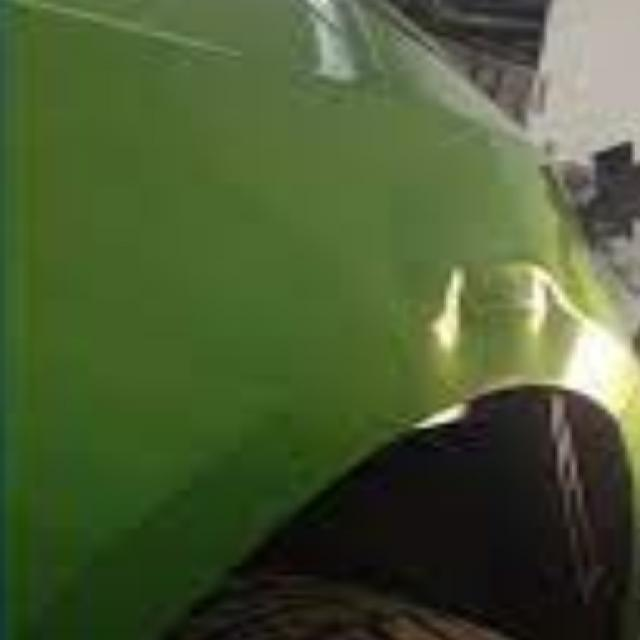dents: (429, 253, 611, 382)
